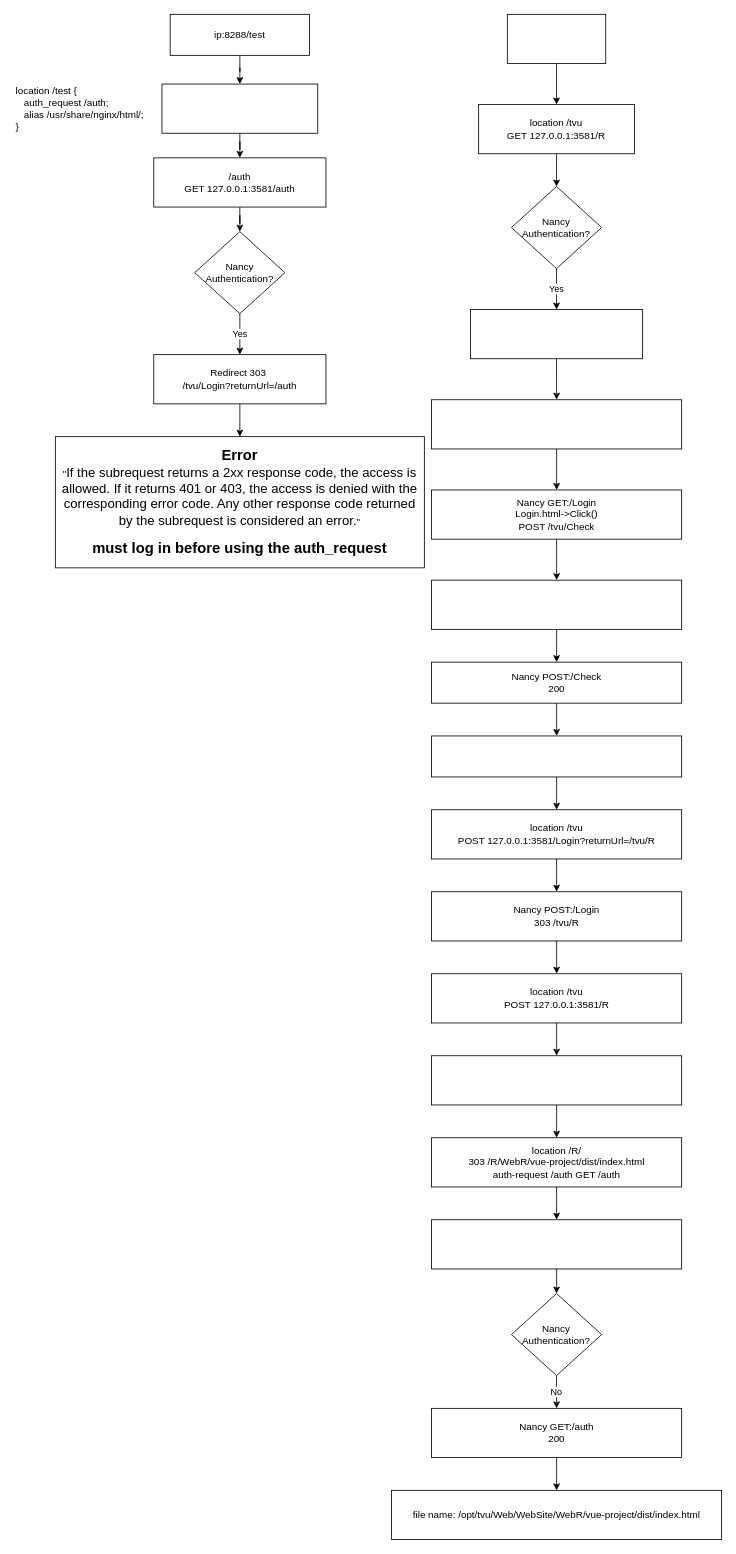
Some shapes in this 736 by 1554 pixel diagram are drawn without their labels. The shapes that lost their labels are listed below. From the top down, each one's centre as x and y in pixels, then its label:
At point 556,39: "GET ip:8288/tvu/R".
At point 239,108: "location /test auth-request /auth".
At point 556,334: "Redirect 303 /tvu/Login?returnUrl=/R".
At point 556,424: "location /tvu GET 127.0.0.1:3581/Login?returnUrl=/tvu/R".
At point 556,604: "location /tvu POST 127.0.0.1:3581/Check".
At point 556,756: "Form POST /tvu/Login?returnUrl=/R".
At point 556,1080: "Nancy POST:/R 303 /R/WebR/vue-project/dist/index.html".
At point 556,1244: "location /auth GET 127.0.0.1:3581/auth".
